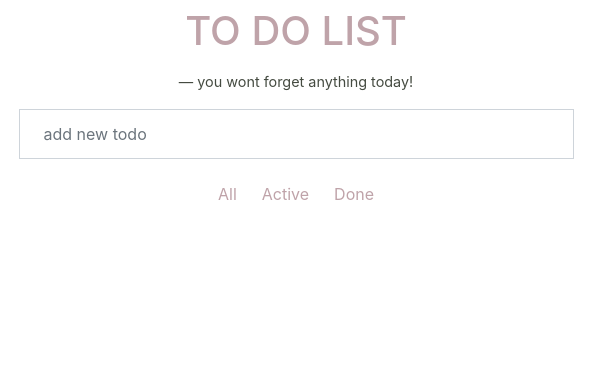
Test: Filtering items tests › should filter done items
Type "Todo example" into the field with test id "add-item-input" at (297, 134), box 19,109 -> 574,159
Press Enter in the field with test id "add-item-input", box 19,109 -> 574,159
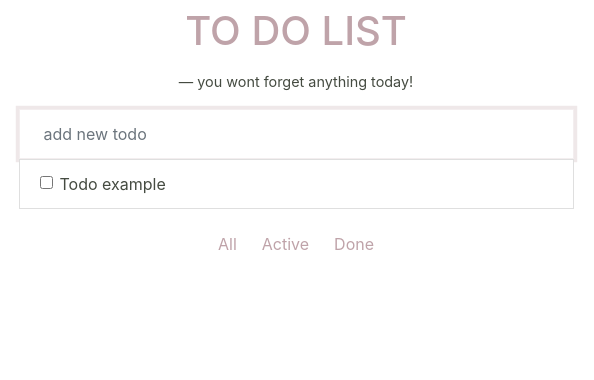
Type "Todo example" into the field with test id "add-item-input" at (297, 134), box 19,109 -> 574,159
Press Enter in the field with test id "add-item-input", box 19,109 -> 574,159
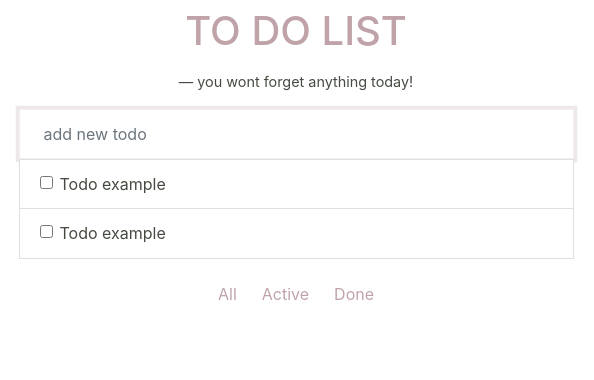
Type "Todo example" into the field with test id "add-item-input" at (297, 134), box 19,109 -> 574,159
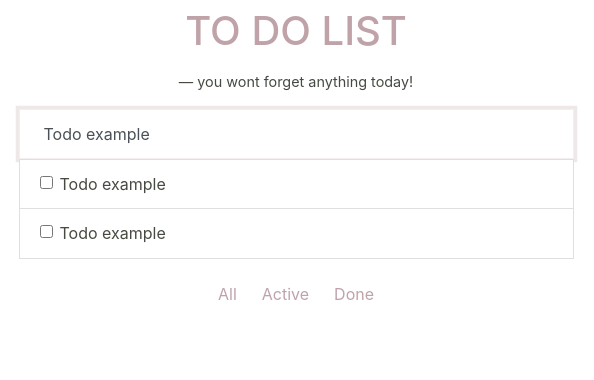
Press Enter in the field with test id "add-item-input", box 19,109 -> 574,159
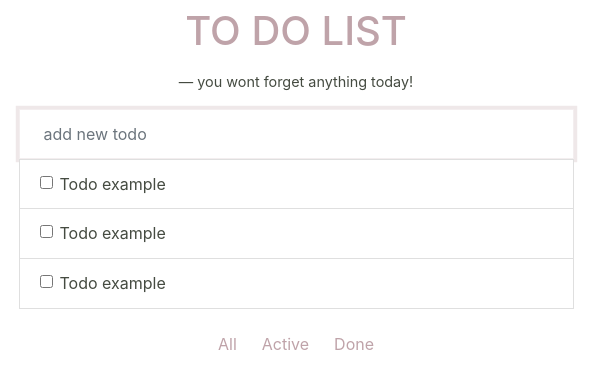
Expected: the number of elements with test id "item" is 3, 18,159 -> 574,209; 18,209 -> 574,259; 18,259 -> 574,309
Click the checkbox with test id "completed-checkbox" showing "Todo example" at (47, 183), box 40,176 -> 53,189
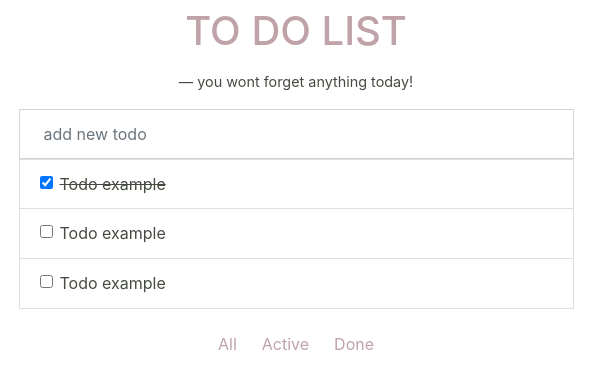
Click the button with test id "filter-done" at (354, 344), box 321,325 -> 387,363
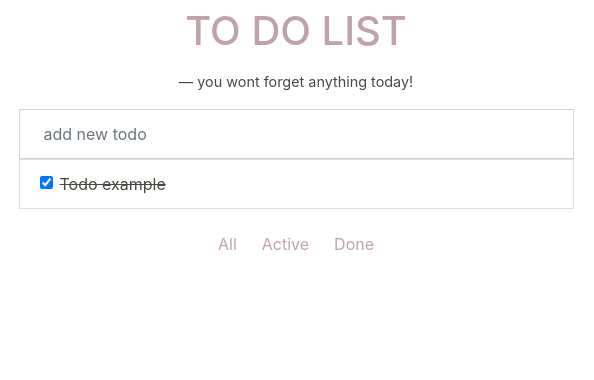
Expected: the number of elements with test id "item" is 1, 19,159 -> 574,209
